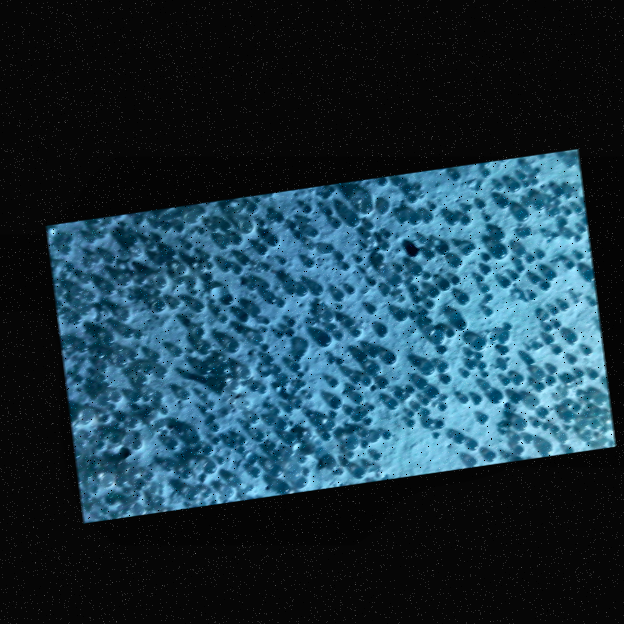GrassBeadSeg: (285, 463, 301, 479), (513, 209, 528, 223), (345, 213, 359, 228), (430, 331, 444, 345), (344, 436, 358, 450), (492, 245, 506, 259), (317, 333, 330, 347), (421, 362, 434, 376), (203, 461, 216, 474), (226, 340, 239, 353), (472, 338, 485, 351), (489, 391, 502, 404), (100, 474, 113, 487), (366, 364, 380, 376), (238, 368, 251, 380), (389, 275, 401, 288), (408, 213, 420, 226), (526, 397, 538, 410), (539, 443, 551, 456), (359, 201, 371, 214), (237, 399, 250, 411), (198, 343, 210, 355), (115, 355, 127, 367), (240, 222, 252, 234), (383, 353, 395, 365), (295, 285, 307, 297), (514, 419, 526, 431), (187, 212, 199, 224), (152, 301, 165, 312), (126, 467, 139, 478), (329, 398, 341, 409), (270, 466, 282, 477), (174, 265, 186, 276), (251, 334, 263, 345), (438, 280, 450, 291), (275, 420, 287, 431), (155, 367, 167, 378), (426, 388, 438, 399), (221, 295, 233, 306), (133, 504, 144, 516), (216, 364, 228, 375), (510, 392, 521, 404), (277, 483, 289, 494), (193, 302, 204, 313), (267, 236, 278, 247), (457, 294, 468, 305), (311, 285, 322, 296), (185, 489, 196, 500), (155, 278, 166, 289), (416, 379, 427, 390), (222, 487, 233, 498), (355, 352, 366, 363), (109, 392, 120, 403), (377, 204, 388, 215), (199, 364, 210, 375), (324, 420, 335, 431), (376, 326, 387, 337), (446, 215, 457, 226), (410, 266, 422, 276), (247, 453, 257, 465), (219, 238, 229, 250), (395, 311, 406, 321), (167, 439, 177, 450), (484, 452, 495, 462), (450, 258, 461, 268), (136, 376, 147, 386), (497, 199, 508, 209), (103, 335, 114, 345), (295, 478, 306, 488), (228, 381, 239, 391), (353, 468, 364, 478), (201, 445, 212, 455), (422, 213, 432, 224), (220, 262, 231, 272), (119, 276, 130, 286), (70, 314, 81, 324), (497, 333, 507, 344), (508, 182, 519, 192), (493, 232, 504, 242), (283, 435, 294, 445), (282, 449, 292, 460), (533, 200, 544, 210), (193, 264, 204, 274), (201, 273, 212, 283), (162, 222, 173, 232), (131, 247, 142, 257), (565, 158, 576, 168), (250, 468, 260, 478), (193, 328, 203, 338), (366, 305, 376, 315), (232, 236, 242, 246), (238, 313, 248, 323), (387, 400, 397, 410), (334, 292, 344, 302), (408, 285, 418, 295), (456, 320, 466, 330), (500, 279, 510, 289), (181, 469, 191, 479), (323, 312, 333, 322), (250, 307, 260, 317), (258, 282, 268, 292), (119, 311, 129, 321), (104, 285, 114, 295), (179, 390, 189, 400), (220, 222, 230, 232), (454, 434, 464, 444), (274, 214, 284, 224), (466, 458, 476, 468), (129, 392, 139, 402), (438, 245, 448, 255), (368, 348, 378, 358), (77, 342, 87, 352), (562, 412, 572, 422), (402, 185, 412, 195), (117, 476, 127, 486), (97, 229, 107, 239), (519, 229, 529, 239), (377, 177, 387, 187), (538, 408, 548, 418), (589, 419, 599, 429), (595, 395, 605, 405), (557, 434, 567, 444), (580, 432, 590, 442), (578, 419, 588, 429), (369, 432, 379, 442), (80, 415, 90, 425), (380, 286, 389, 297), (567, 334, 576, 345), (429, 288, 438, 298), (240, 256, 249, 266), (169, 300, 179, 309), (424, 251, 434, 260), (478, 415, 487, 425), (123, 329, 133, 338), (378, 379, 387, 389), (231, 478, 241, 487), (515, 248, 525, 257), (422, 420, 432, 429), (513, 376, 522, 386), (132, 440, 141, 450), (437, 363, 447, 372), (535, 382, 544, 392), (266, 294, 275, 304), (467, 440, 476, 450), (271, 452, 281, 461), (135, 480, 144, 490), (90, 484, 99, 494), (165, 250, 175, 259), (155, 497, 164, 507), (61, 246, 71, 255), (128, 418, 137, 428), (155, 257, 165, 266), (548, 208, 558, 217), (105, 255, 115, 264), (511, 434, 520, 444), (209, 223, 219, 232), (154, 392, 163, 402), (352, 413, 362, 422), (343, 369, 353, 378), (173, 348, 182, 357), (249, 415, 258, 424), (257, 246, 266, 255), (264, 356, 273, 365), (255, 433, 264, 442), (329, 379, 338, 388), (276, 299, 285, 308), (351, 329, 360, 338), (437, 346, 446, 355), (481, 266, 490, 275), (237, 436, 246, 445), (143, 365, 152, 374), (461, 217, 470, 226), (233, 266, 242, 275), (334, 332, 343, 341), (331, 220, 340, 229), (144, 472, 153, 481), (546, 272, 555, 281), (514, 446, 523, 455), (544, 336, 553, 345), (523, 435, 532, 444), (466, 361, 475, 370), (80, 306, 89, 315), (128, 351, 137, 360), (353, 396, 362, 405), (558, 219, 567, 228), (571, 404, 580, 413), (227, 439, 236, 448), (128, 236, 137, 245), (88, 462, 97, 471), (113, 344, 122, 353), (94, 350, 103, 359), (175, 224, 184, 233), (309, 229, 318, 238), (555, 189, 564, 198), (475, 275, 484, 284), (132, 365, 141, 374), (143, 388, 152, 397), (303, 433, 312, 442), (359, 440, 368, 449), (359, 430, 368, 439), (351, 375, 360, 384), (362, 378, 371, 387), (247, 205, 257, 213), (327, 463, 337, 471), (381, 242, 389, 251), (151, 354, 160, 362), (441, 376, 450, 384), (382, 432, 391, 440), (499, 346, 507, 355), (219, 315, 227, 324), (540, 282, 549, 290), (481, 285, 489, 294), (287, 223, 296, 231), (446, 329, 454, 338), (187, 279, 195, 288), (305, 260, 314, 268), (293, 400, 301, 409), (546, 377, 554, 386), (473, 396, 481, 405), (374, 255, 383, 263), (164, 463, 173, 471), (297, 456, 306, 464), (525, 357, 533, 366), (535, 371, 543, 380), (551, 426, 560, 434), (87, 236, 96, 244), (461, 248, 470, 256), (502, 377, 510, 386), (548, 366, 556, 375), (568, 356, 576, 365), (465, 349, 473, 358), (266, 417, 274, 426), (340, 458, 348, 467), (348, 425, 356, 434), (412, 358, 420, 367), (287, 319, 295, 327), (484, 309, 492, 317), (198, 474, 206, 482), (553, 347, 561, 355), (438, 403, 446, 411), (354, 256, 362, 264), (322, 433, 330, 441), (409, 312, 417, 320), (589, 372, 597, 380), (291, 364, 299, 372), (413, 296, 421, 304), (135, 331, 143, 339), (346, 451, 354, 459), (335, 253, 343, 261), (96, 441, 104, 449), (303, 206, 311, 214), (133, 492, 141, 500), (421, 398, 429, 406), (451, 277, 459, 285), (203, 489, 211, 497), (346, 287, 354, 295), (566, 262, 574, 270), (583, 348, 591, 356), (294, 232, 302, 240), (365, 222, 373, 230), (532, 420, 540, 428), (408, 196, 416, 204), (531, 277, 539, 285), (87, 294, 95, 302), (477, 202, 485, 210), (100, 415, 108, 423), (460, 396, 468, 404), (211, 424, 219, 432), (273, 367, 281, 375), (550, 308, 558, 316), (99, 364, 107, 372), (136, 277, 144, 285), (560, 303, 568, 311), (482, 383, 490, 391), (248, 282, 256, 290), (258, 386, 266, 394), (394, 391, 402, 399), (451, 173, 459, 181), (83, 432, 91, 440), (176, 277, 184, 285), (66, 237, 74, 245), (92, 255, 100, 263), (147, 241, 155, 249), (74, 287, 82, 295), (66, 264, 74, 272), (60, 271, 68, 279), (57, 289, 65, 297), (262, 264, 270, 272), (383, 231, 391, 239), (398, 216, 406, 224), (495, 183, 503, 191), (84, 472, 92, 480), (83, 494, 91, 502), (347, 386, 355, 394), (250, 384, 258, 392), (217, 383, 225, 391), (280, 378, 288, 386), (413, 403, 421, 411), (285, 405, 292, 414), (526, 256, 533, 264), (426, 301, 433, 309), (436, 421, 443, 429), (286, 330, 294, 337), (341, 264, 349, 271), (212, 308, 220, 315), (328, 325, 336, 332), (272, 408, 279, 416), (184, 243, 192, 250), (537, 252, 544, 260), (421, 410, 429, 417), (482, 254, 489, 262), (236, 326, 243, 334), (364, 418, 371, 426), (478, 363, 485, 371), (258, 220, 265, 228), (75, 376, 83, 383), (541, 424, 549, 431), (483, 215, 490, 223), (344, 321, 352, 328), (160, 408, 168, 415), (463, 205, 470, 213), (363, 232, 370, 240), (83, 277, 91, 284), (393, 178, 400, 186), (468, 244, 475, 252), (482, 170, 489, 178), (544, 325, 551, 333), (576, 370, 583, 378), (561, 390, 568, 398), (419, 236, 426, 244), (422, 273, 430, 280), (208, 415, 215, 423), (599, 438, 607, 445), (595, 409, 603, 416), (373, 453, 380, 460), (407, 420, 414, 427), (261, 345, 268, 352), (368, 279, 375, 286), (207, 401, 214, 408), (307, 243, 314, 250), (262, 318, 269, 325), (189, 289, 196, 296), (206, 263, 213, 270), (511, 274, 518, 281), (287, 288, 294, 295), (576, 254, 583, 261), (325, 210, 332, 217), (302, 469, 309, 476), (345, 408, 352, 415), (397, 296, 404, 303), (327, 357, 334, 364), (98, 375, 105, 382), (530, 179, 537, 186), (183, 319, 190, 326), (519, 174, 526, 181), (564, 210, 571, 217), (546, 198, 553, 205), (528, 293, 535, 300), (553, 322, 560, 329), (589, 300, 596, 307), (575, 390, 582, 397), (485, 295, 492, 302), (426, 242, 433, 249), (395, 266, 402, 273), (420, 310, 427, 317), (161, 430, 168, 437), (155, 424, 162, 431), (194, 445, 201, 452), (269, 443, 276, 450), (296, 434, 303, 441), (299, 349, 306, 356), (109, 404, 115, 412), (517, 265, 523, 273), (152, 290, 160, 296), (279, 259, 286, 265), (367, 405, 374, 411), (276, 332, 283, 338), (462, 371, 468, 378), (432, 432, 438, 439), (408, 411, 414, 418), (574, 236, 580, 243), (336, 359, 342, 366), (101, 508, 108, 514), (204, 255, 211, 261), (137, 218, 143, 225), (199, 228, 205, 235), (153, 222, 159, 229), (522, 182, 529, 188), (578, 228, 585, 234), (565, 193, 571, 200), (476, 353, 482, 360), (505, 324, 511, 331), (424, 319, 431, 325), (335, 314, 341, 321), (122, 508, 129, 514), (150, 487, 157, 493), (218, 458, 225, 464), (213, 438, 220, 444), (200, 407, 207, 413), (227, 399, 234, 405), (244, 424, 251, 430), (247, 485, 254, 491), (306, 412, 313, 418), (282, 394, 289, 400), (294, 356, 301, 362), (441, 395, 447, 402), (330, 412, 336, 418), (336, 470, 342, 476), (429, 205, 435, 211), (418, 193, 424, 199), (566, 234, 572, 240), (524, 202, 530, 208), (575, 208, 581, 214), (554, 201, 560, 207), (530, 172, 536, 178), (238, 448, 244, 454), (143, 411, 149, 417), (158, 489, 164, 495), (158, 484, 164, 490), (403, 394, 409, 400), (409, 388, 415, 394), (370, 386, 376, 392), (306, 394, 311, 400), (482, 372, 487, 378), (415, 185, 421, 190), (453, 242, 459, 247), (407, 277, 413, 282), (396, 290, 402, 295), (328, 247, 334, 252), (336, 305, 342, 310), (303, 219, 309, 224), (254, 199, 260, 204), (298, 373, 303, 379), (241, 382, 247, 387), (296, 384, 301, 390), (402, 179, 407, 184), (504, 357, 509, 362), (501, 430, 506, 435), (498, 426, 503, 431), (422, 294, 427, 299), (220, 358, 225, 363), (573, 300, 578, 304), (540, 318, 545, 322), (525, 347, 530, 351), (501, 367, 506, 371), (564, 427, 569, 431), (498, 422, 503, 426), (432, 403, 437, 407), (448, 435, 453, 439), (505, 454, 509, 459), (565, 404, 570, 408), (577, 293, 582, 297), (291, 391, 296, 395), (288, 422, 293, 426), (262, 328, 267, 332), (556, 398, 560, 402), (549, 408, 553, 411), (572, 389, 576, 392), (569, 385, 573, 388), (535, 347, 538, 350), (539, 344, 542, 347)
